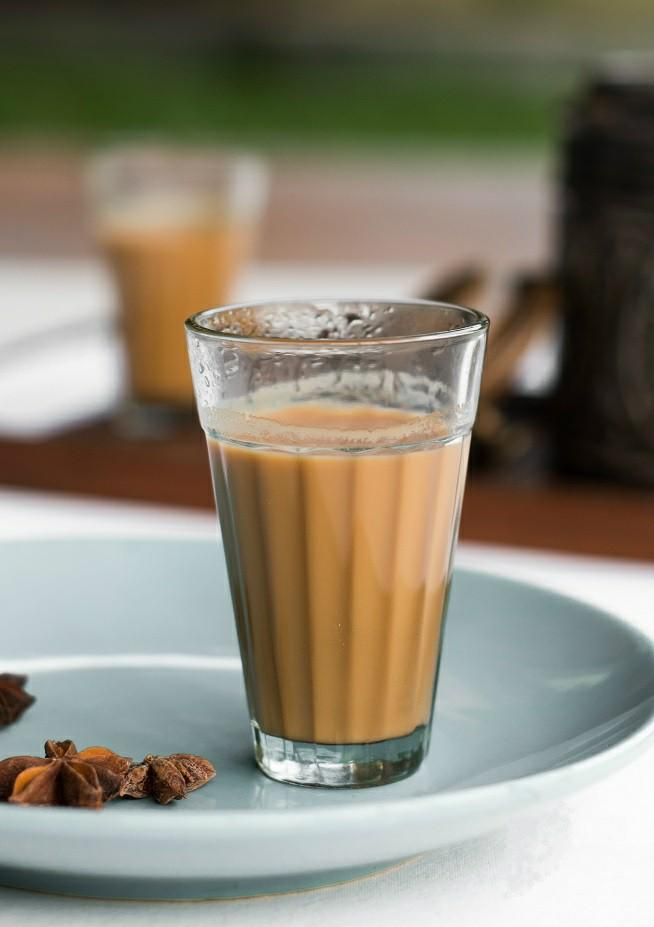Chai: (207, 391, 470, 740), (88, 215, 252, 388)
